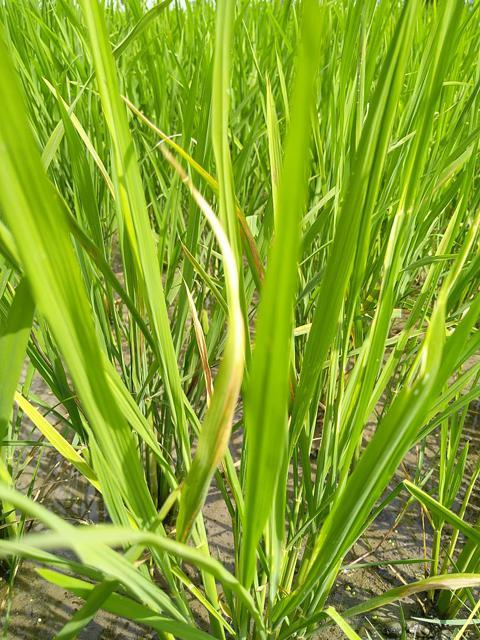Leaf Blight: (161, 145, 246, 541), (183, 278, 213, 405)
